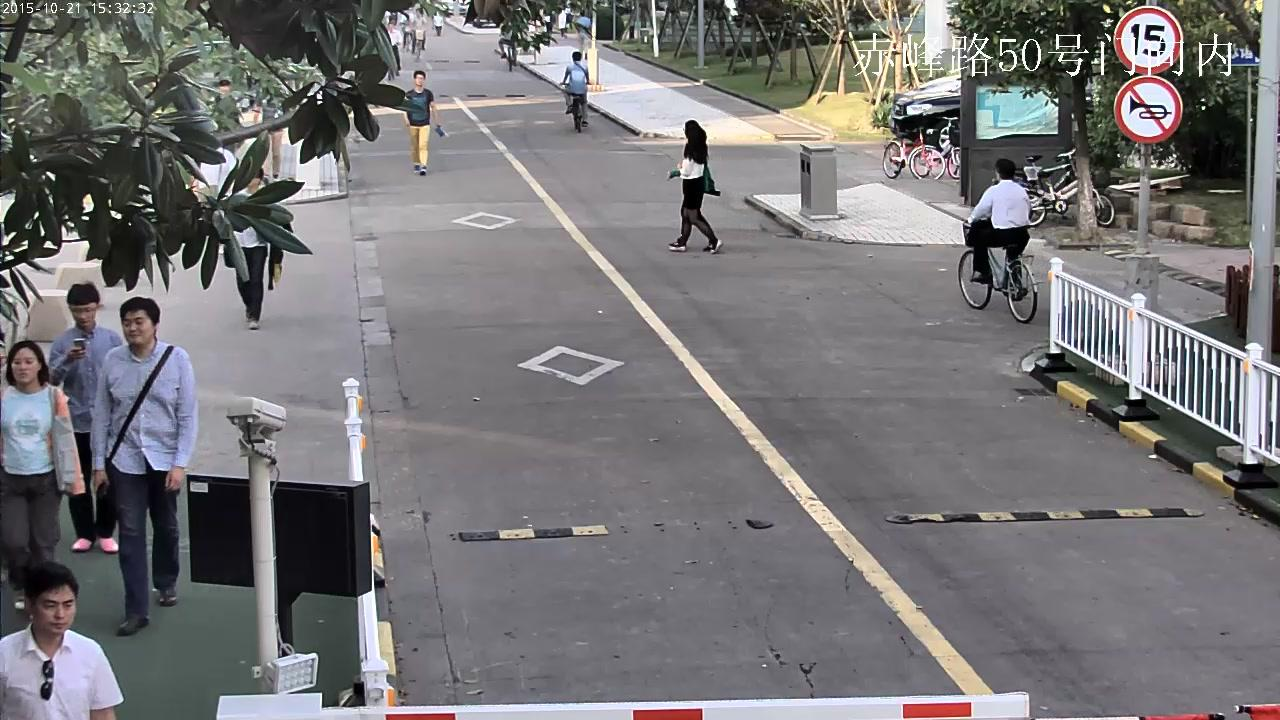face: (35, 584, 76, 633), (122, 309, 153, 343), (12, 346, 37, 382), (70, 303, 96, 325), (415, 74, 423, 86), (387, 23, 394, 31), (415, 9, 419, 15)
